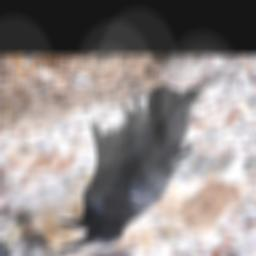Crow: (58, 73, 213, 250)
